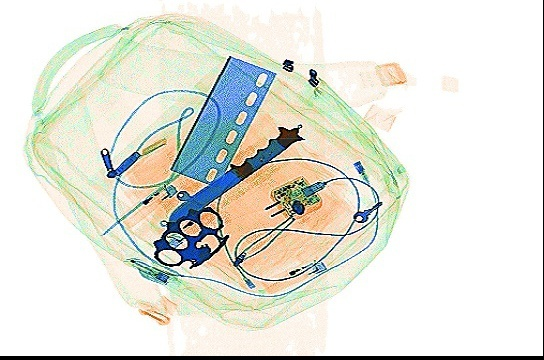knife: (166, 121, 305, 232)
lighter: (118, 182, 178, 230), (165, 202, 218, 251), (260, 256, 327, 294)
